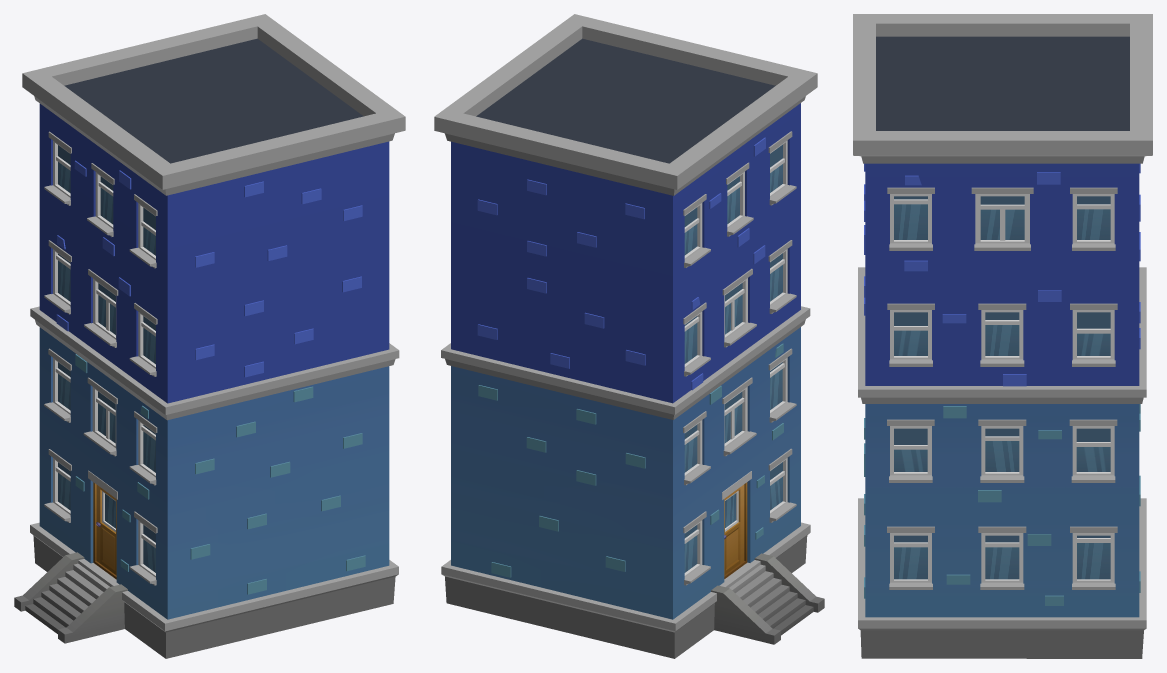
Rendered from Building_2_8_C.fbx.
3 views of the same model, side by side, from view 1: azimuth 30°, elevation 25°; view 2: azimuth 150°, elevation 25°; view 3: azimuth 270°, elevation 25° (orthographic). The views are drawn at different scales.
Visible parts, largest first — view 1: Building_2_8_C; view 2: Building_2_8_C; view 3: Building_2_8_C.
Boxes of the visible parts, left/top/right/bottom form: Building_2_8_C: left=14, top=14, right=405, bottom=658; Building_2_8_C: left=434, top=14, right=824, bottom=658; Building_2_8_C: left=853, top=14, right=1152, bottom=658.
Size of the model in its own units: 754 by 1191 by 620.
